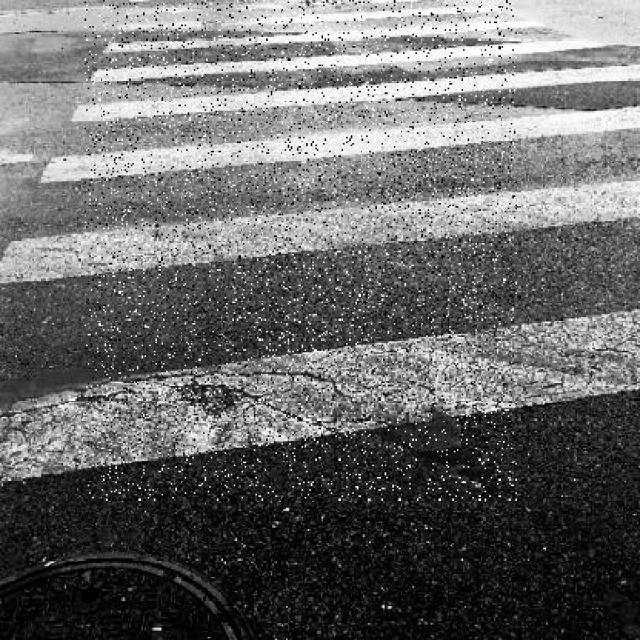crosswalk: (1, 4, 640, 483)
